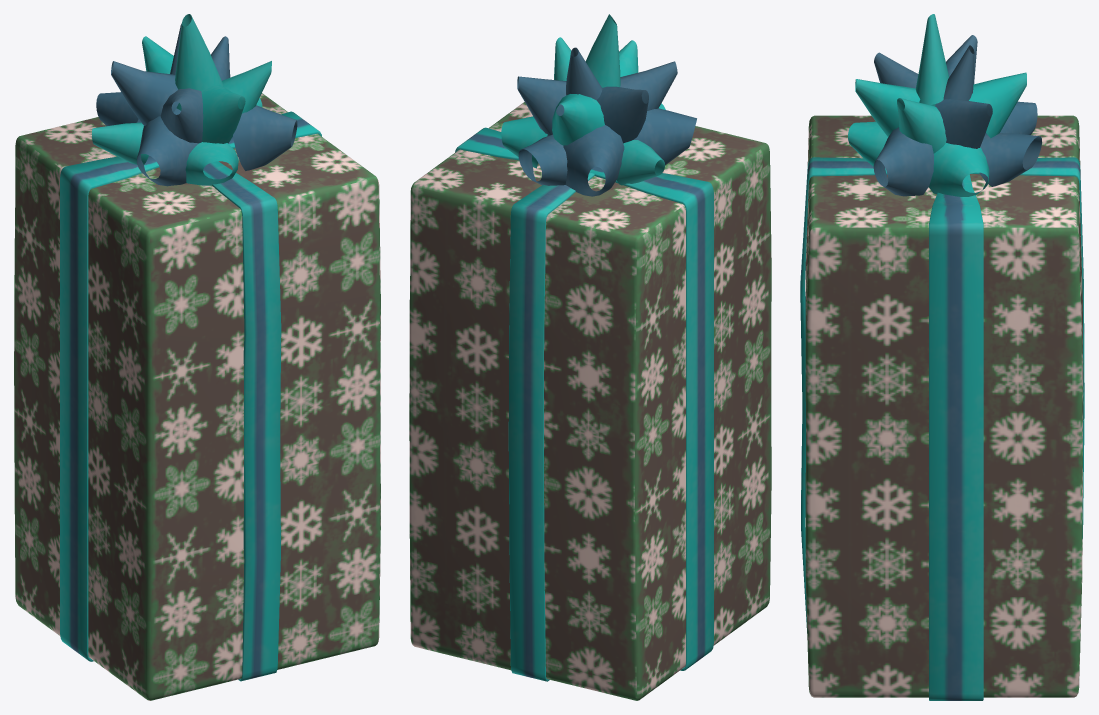
The model's file is Gift0101.gltf.
3 renders of one model, left to right at view 1: azimuth 30°, elevation 25°; view 2: azimuth 150°, elevation 25°; view 3: azimuth 270°, elevation 25°, orthographic.
Parts seen in each view (by area): view 1: Present; view 2: Present; view 3: Present.
Part boxes in pixels (x1=…): Present: x1=14, y1=14, x2=380, y2=700; Present: x1=409, y1=14, x2=771, y2=700; Present: x1=800, y1=14, x2=1084, y2=700.
Bounding box in the file's own units: 0.0676 × 0.1705 × 0.0703.
Materials: 1 (1 with a texture image).
